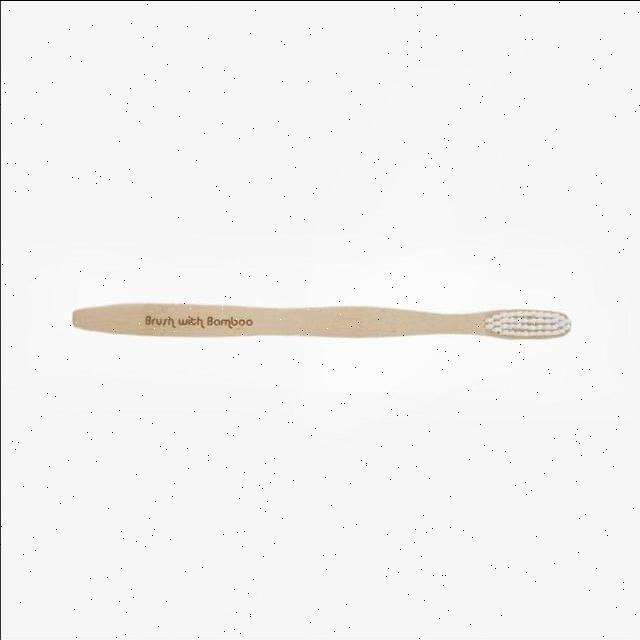toothbrush: (44, 283, 592, 361)
